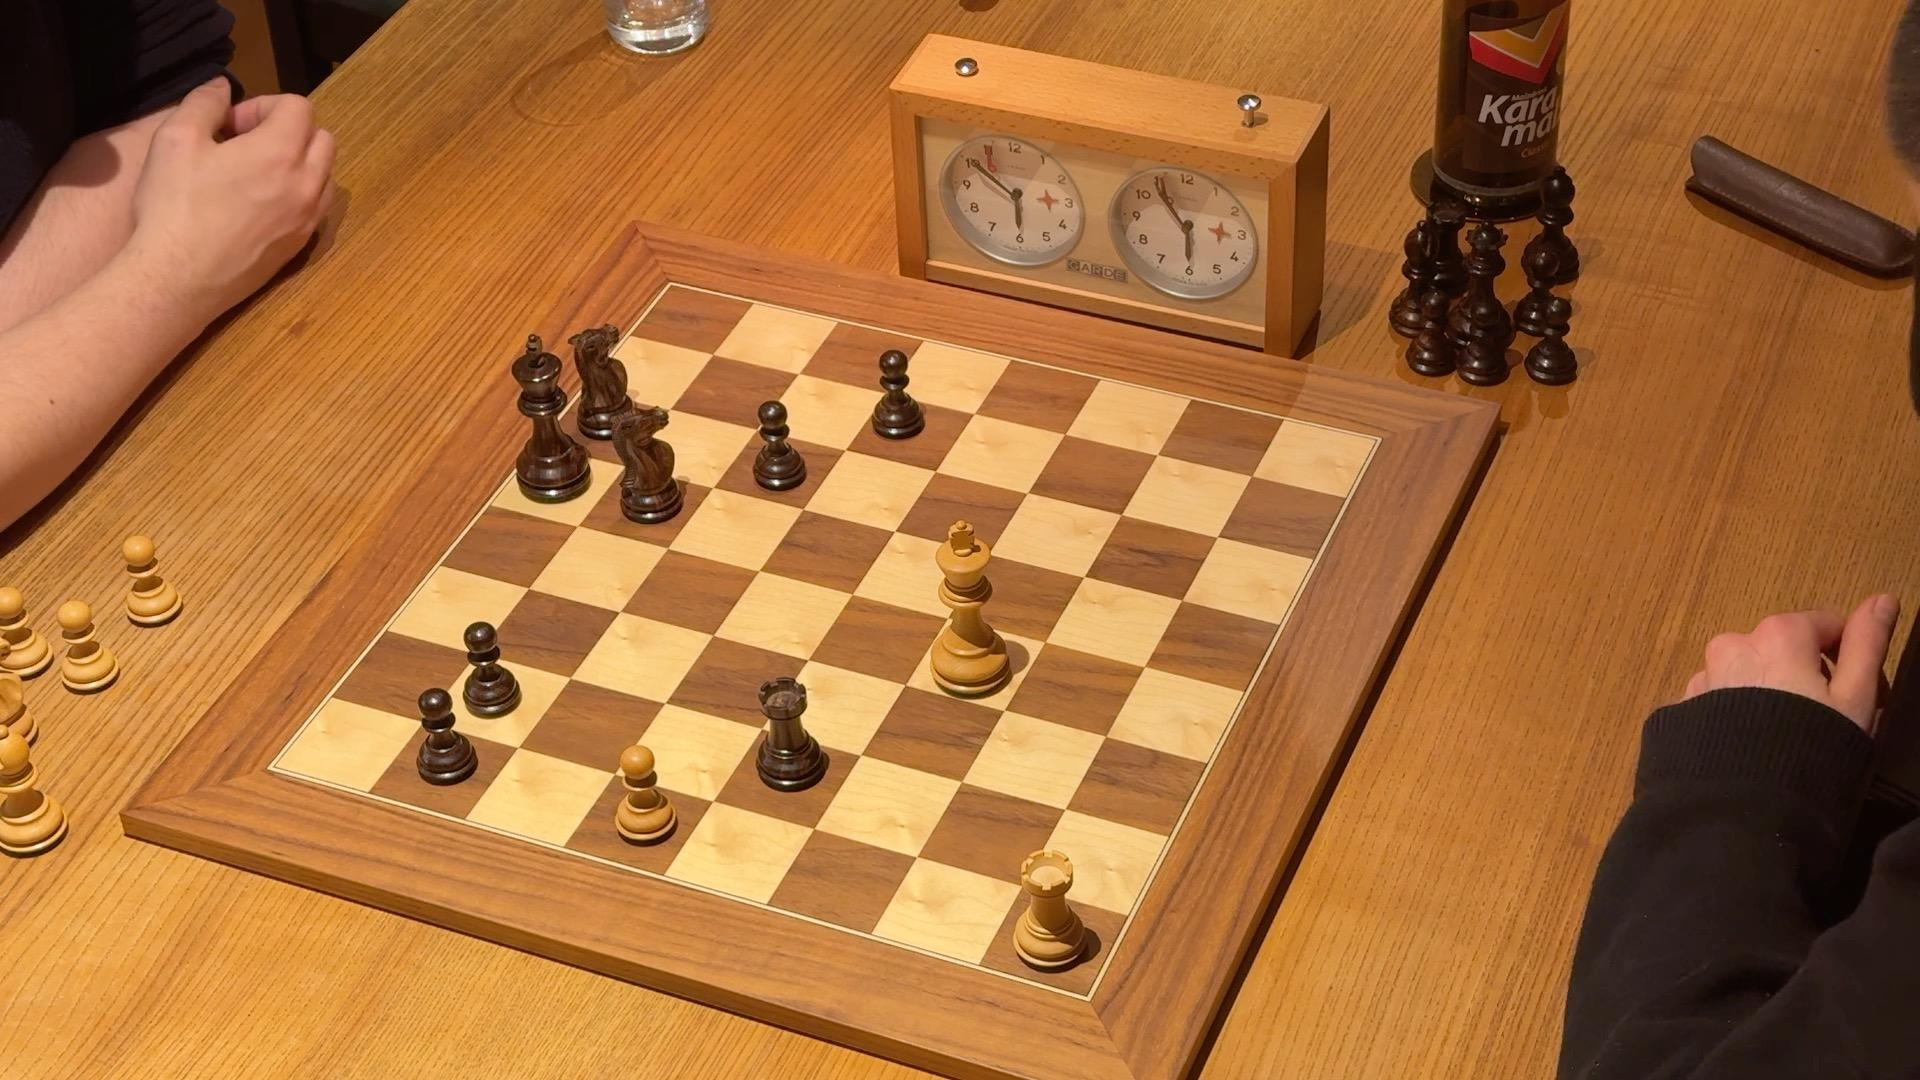Black King: (513, 332, 597, 510)
Black Knight: (560, 319, 653, 447), (608, 401, 688, 524)
Black Pawn: (462, 616, 527, 723), (415, 684, 483, 789), (869, 345, 928, 444), (748, 401, 807, 495)
Black Rook: (749, 678, 833, 798)
White King: (922, 518, 1014, 703)
White Pawn: (609, 744, 682, 851)
White Rook: (1010, 844, 1091, 976)
